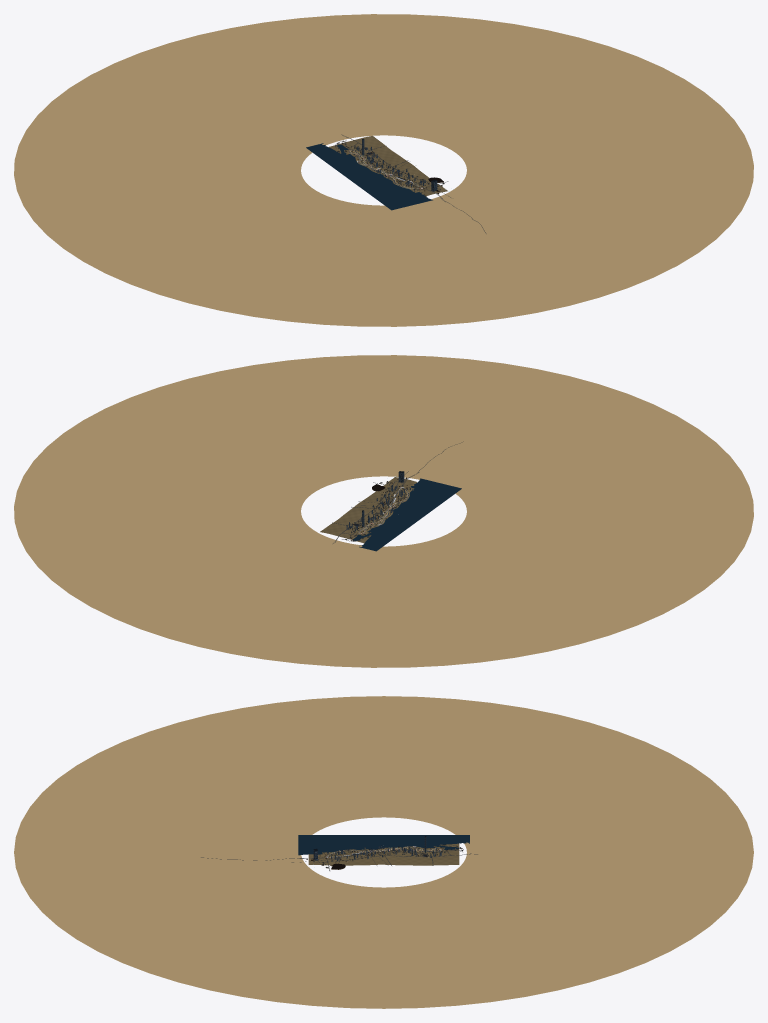
Rendered from jeddah.glb.
3 renders of one model, top to bottom at view 1: azimuth 30°, elevation 25°; view 2: azimuth 150°, elevation 25°; view 3: azimuth 270°, elevation 25°, orthographic.
Visible parts, largest first — view 1: RL_Circuit; view 2: RL_Circuit; view 3: RL_Circuit.
Part boxes in pixels (left/top/right/bottom): RL_Circuit: left=14, top=14, right=753, bottom=326; RL_Circuit: left=14, top=355, right=753, bottom=667; RL_Circuit: left=14, top=696, right=753, bottom=1008.
Bounding box in the file's own units: 18000 × 447 × 18000.
102 materials, 69 textured.
